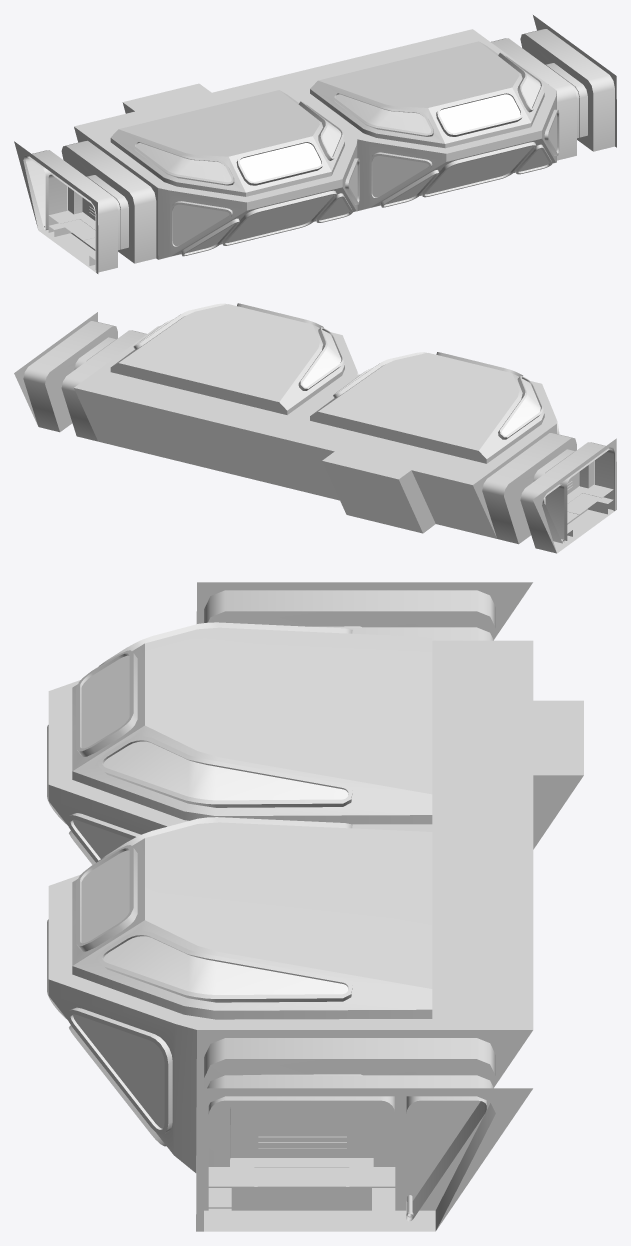
The picture shows the model from 3 angles, top to bottom: view 1: azimuth 30°, elevation 25°; view 2: azimuth 150°, elevation 25°; view 3: azimuth 270°, elevation 25°; orthographic projection. The views are drawn at different scales.
Visible parts, largest first — view 1: Corridor_Part_02, Corridor_Part_01, Corridor_Part_03.001, Corridor_Part_02_Glass, Corridor_Part_01_Glass, Corridor_Part_03; view 2: Corridor_Part_02, Corridor_Part_01, Corridor_Part_03.001, Corridor_Part_03, Corridor_Part_01_Glass, Corridor_Part_02_Glass; view 3: Corridor_Part_01, Corridor_Part_02, Corridor_Part_03, Corridor_Part_03.001, Corridor_Part_01_Glass, Corridor_Part_02_Glass.
Part boxes in pixels (<box>): Corridor_Part_02: <box>74,78,359,259</box>; Corridor_Part_01: <box>273,29,559,210</box>; Corridor_Part_03.001: <box>14,127,158,273</box>; Corridor_Part_02_Glass: <box>136,118,357,253</box>; Corridor_Part_01_Glass: <box>335,69,556,204</box>; Corridor_Part_03: <box>491,15,616,160</box>; Corridor_Part_02: <box>273,352,559,538</box>; Corridor_Part_01: <box>74,303,358,490</box>; Corridor_Part_03.001: <box>473,424,616,553</box>; Corridor_Part_03: <box>14,312,146,441</box>; Corridor_Part_01_Glass: <box>167,323,341,387</box>; Corridor_Part_02_Glass: <box>366,372,540,435</box>; Corridor_Part_01: <box>47,817,533,1172</box>; Corridor_Part_02: <box>47,622,583,864</box>; Corridor_Part_03: <box>196,1030,532,1231</box>; Corridor_Part_03.001: <box>196,582,532,640</box>; Corridor_Part_01_Glass: <box>73,850,348,1128</box>; Corridor_Part_02_Glass: <box>73,655,348,858</box>.
Bounding box in the file's own units: 52 × 9.52 × 23.32.
2 materials, 1 textured.
